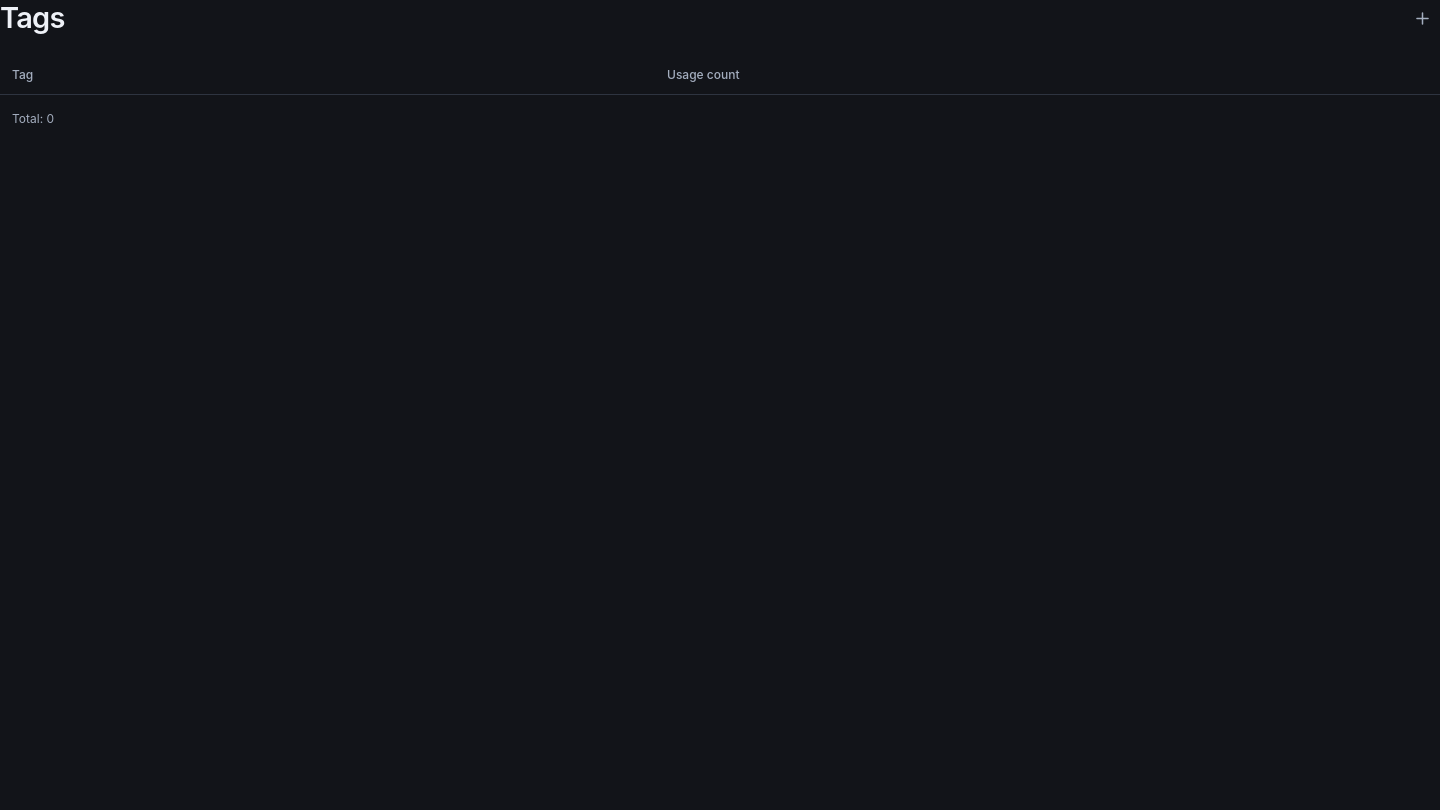
Scenario: organization create receipts › saves a corrected tag after422 with a new body-bound operation key
The image size is (1440, 810).
Click the button named "New tag" at x=1422, y=18, box [1405,0,1439,36]
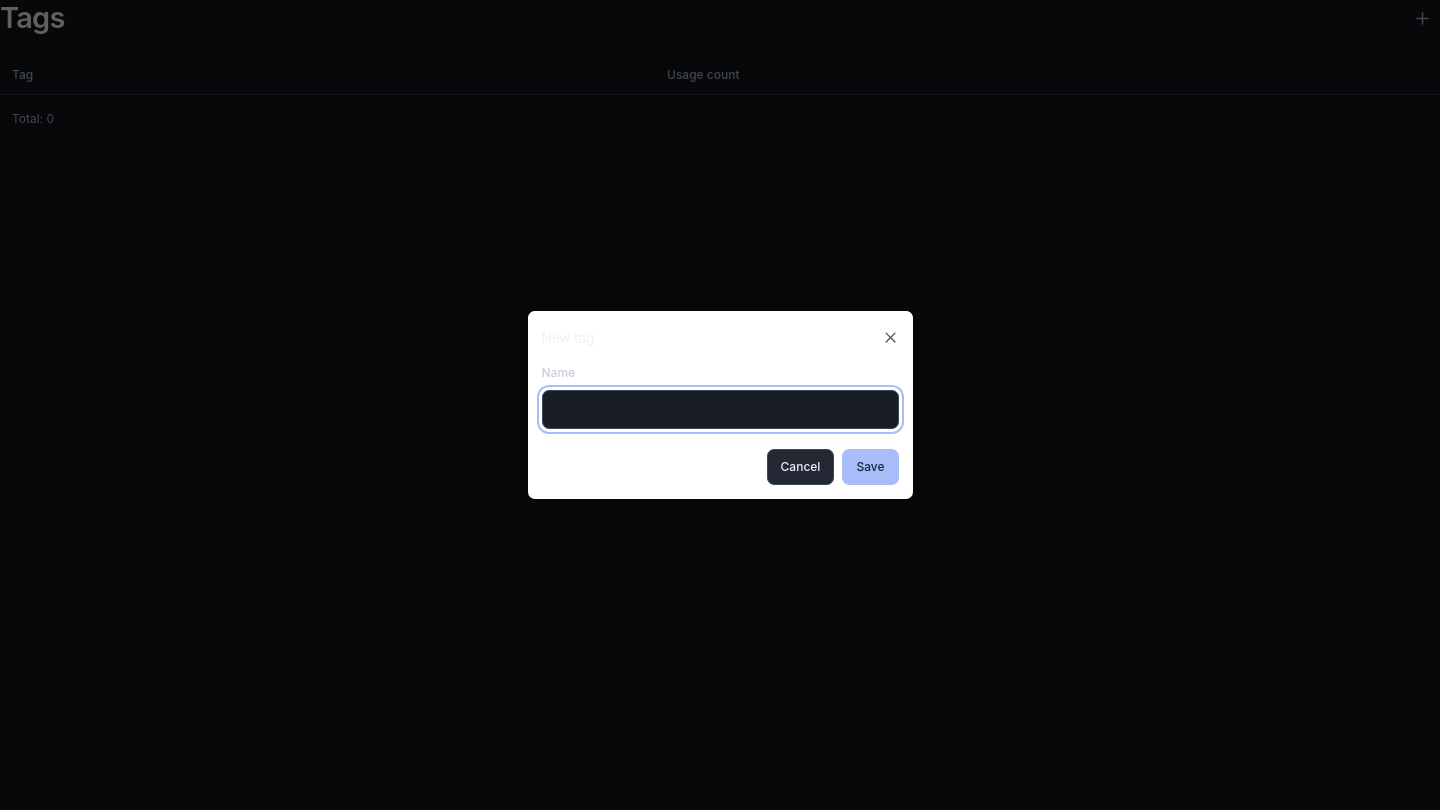
Type "a_b" into the field labelled "Name" at x=720, y=409, box [542,390,898,429]
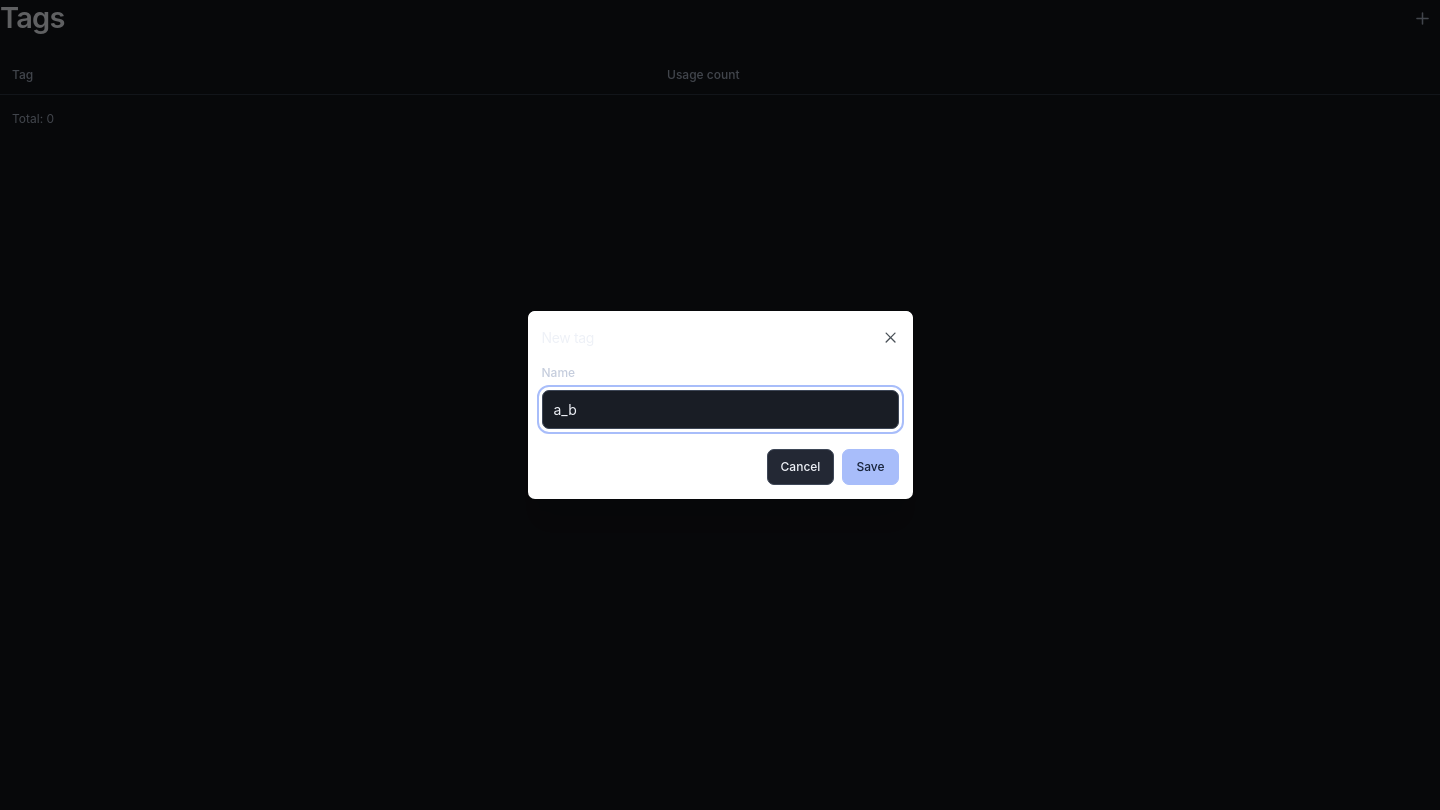
Click the button "Save" at x=870, y=467, box [842,449,898,485]
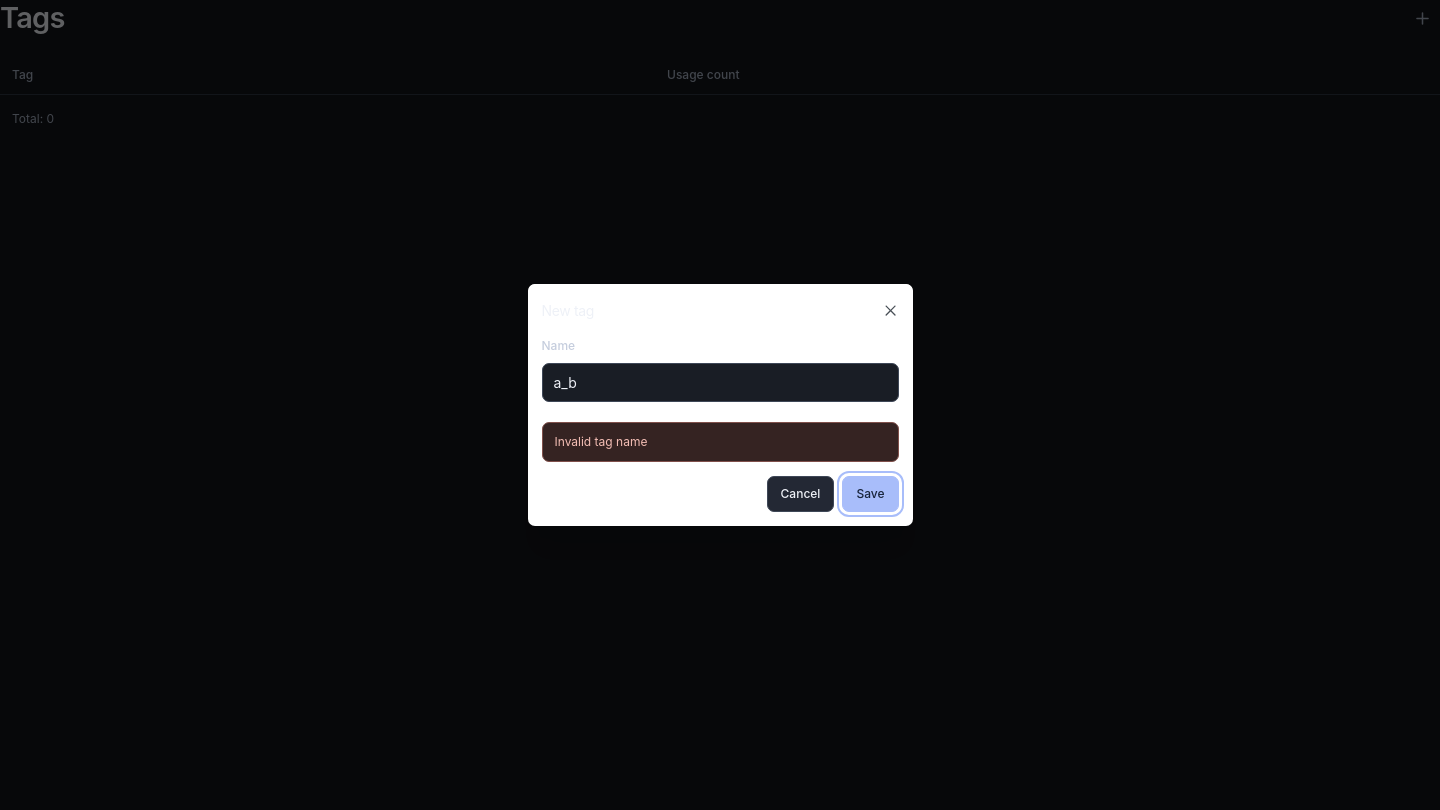
Expected: the message reads "Invalid tag name", [554,434,647,449]
Replace the text in the field labelled "Name" with "a-b" at x=720, y=382, box [542,363,898,402]
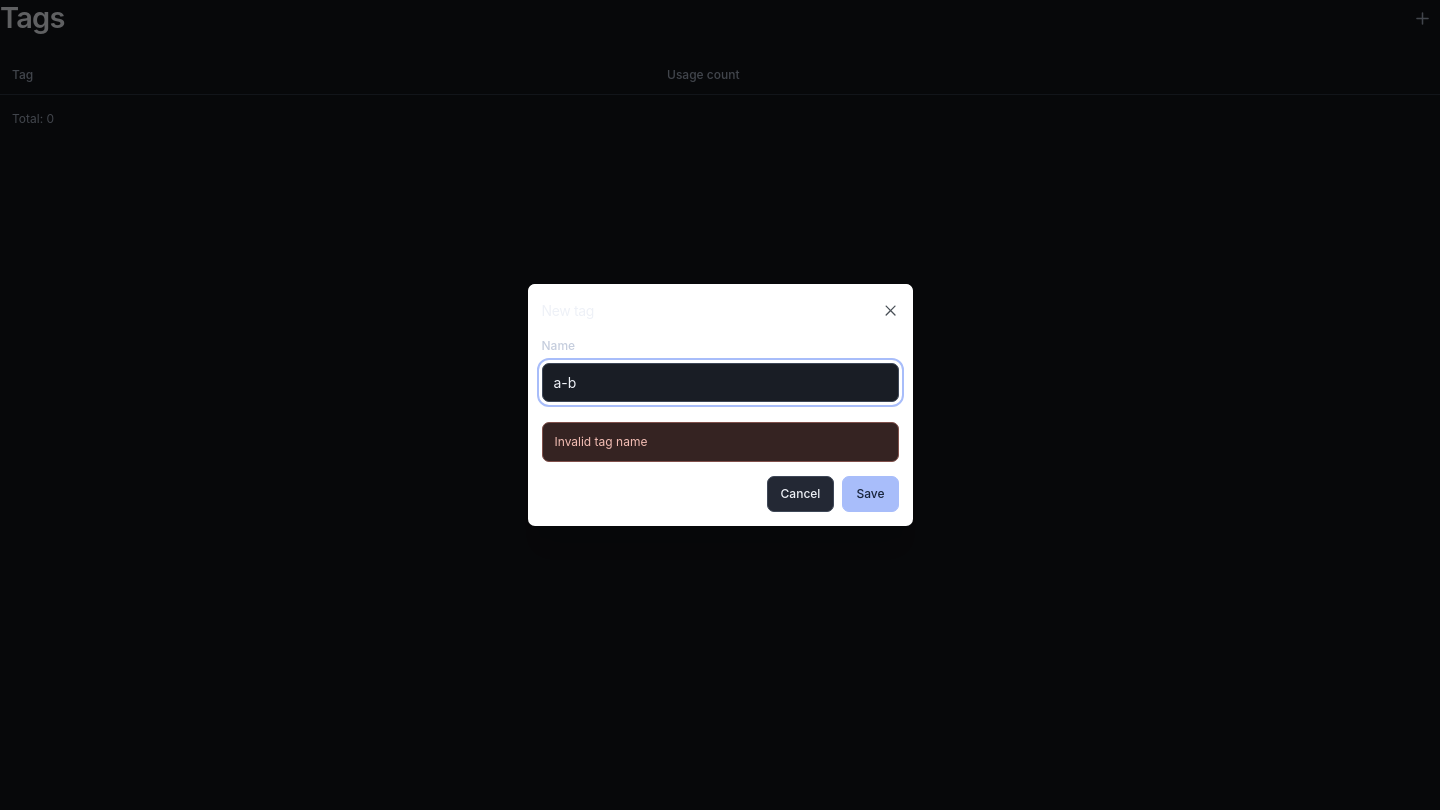
Click the button "Save" at x=870, y=494, box [842,476,898,512]
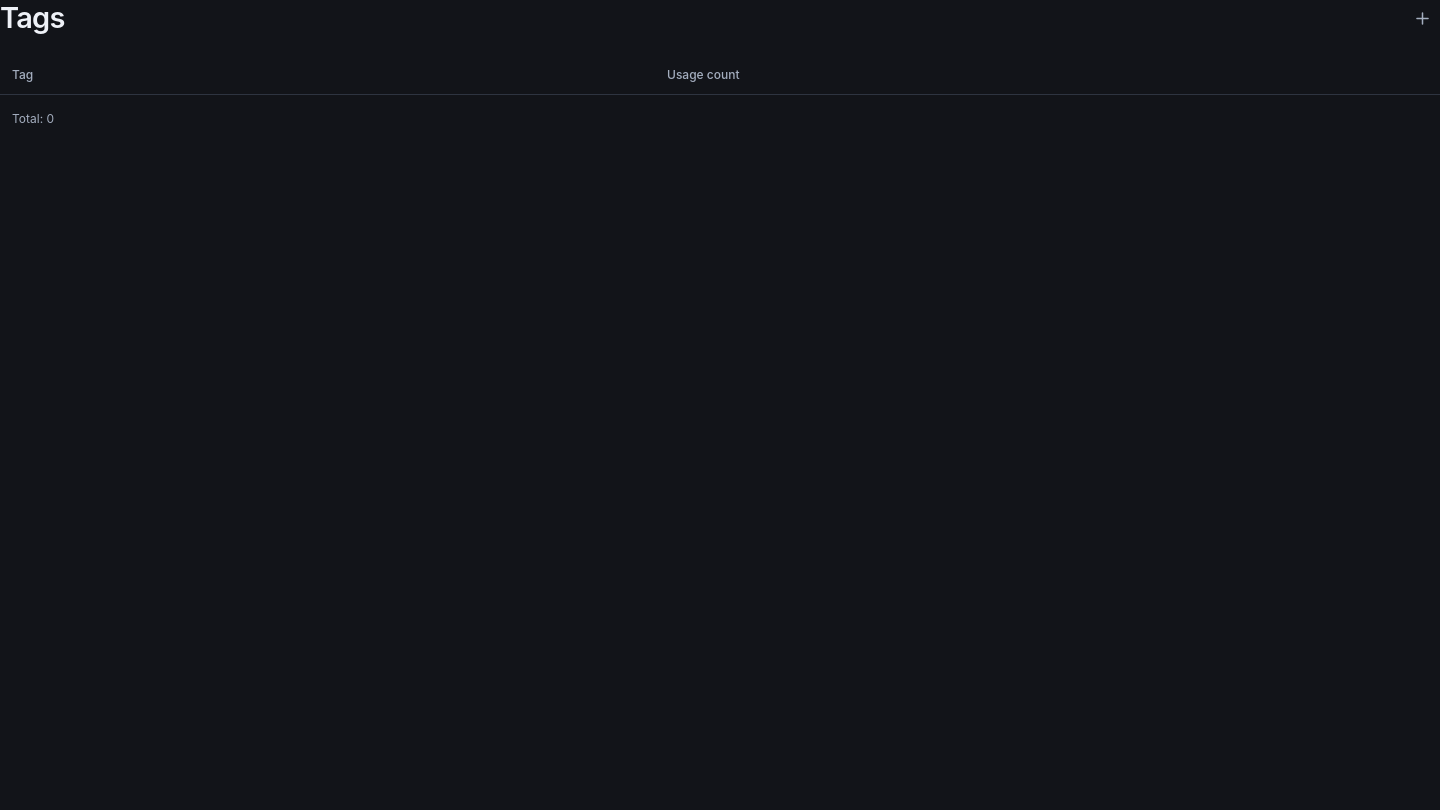
Expected: the dialog is gone
